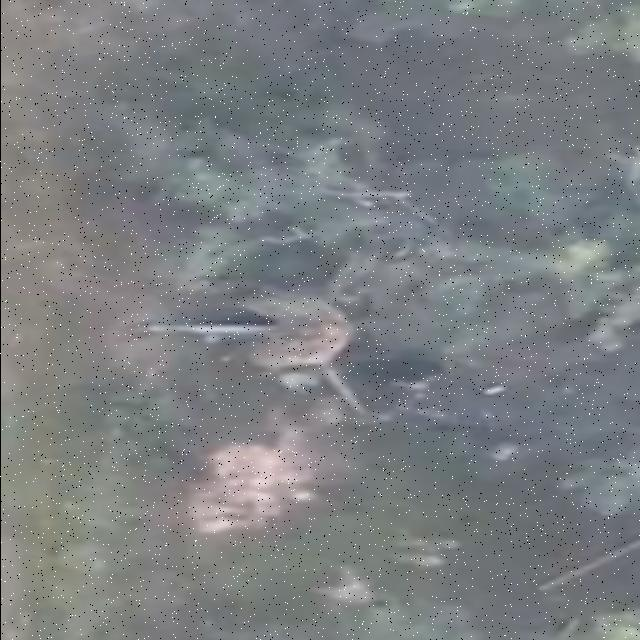ART: (130, 247, 376, 418)
